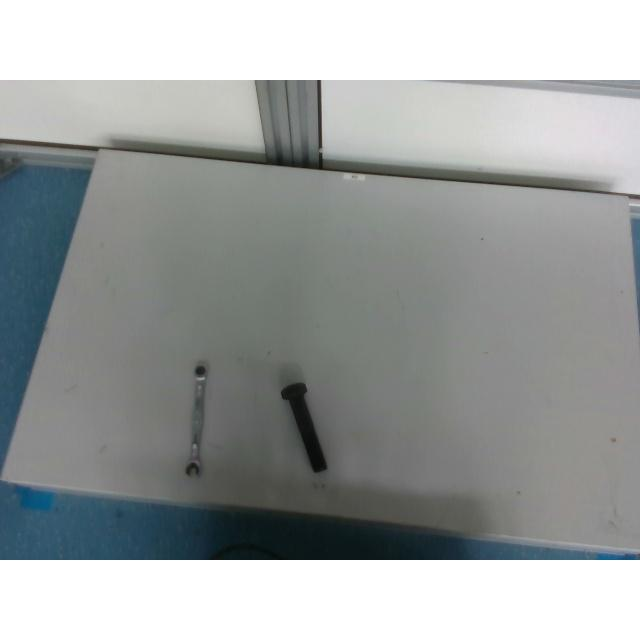M20_100: (280, 381, 328, 473)
Wrench: (184, 365, 208, 477)
